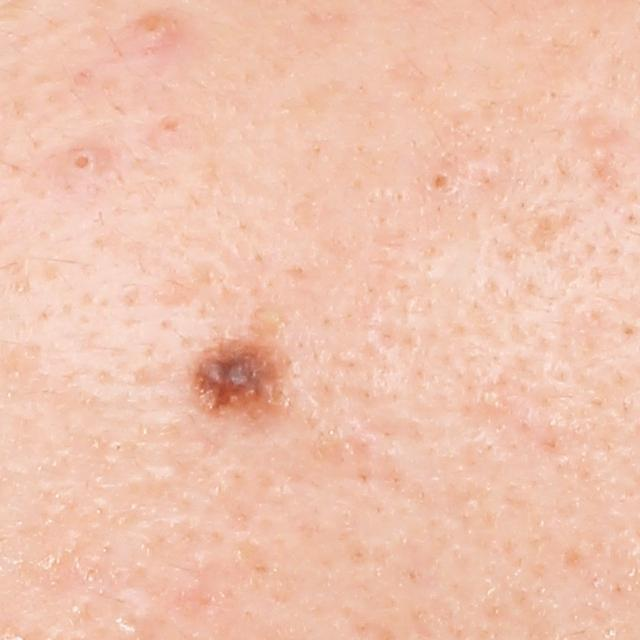comedo: (152, 110, 193, 143), (63, 145, 99, 179), (426, 167, 459, 199), (477, 384, 510, 415)
nevus: (186, 337, 286, 418)
papule: (135, 7, 176, 56)
